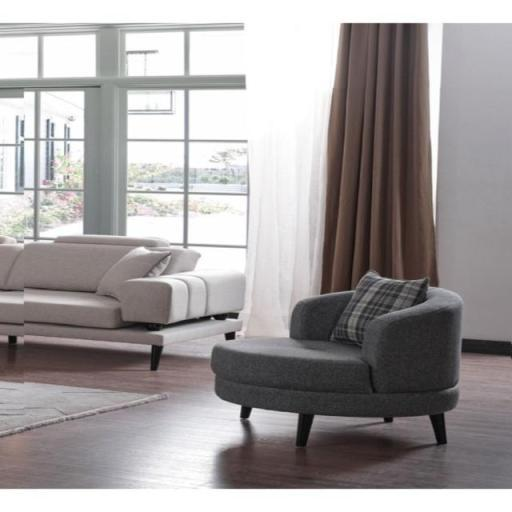sofa: (230, 279, 510, 457), (0, 206, 228, 418)
